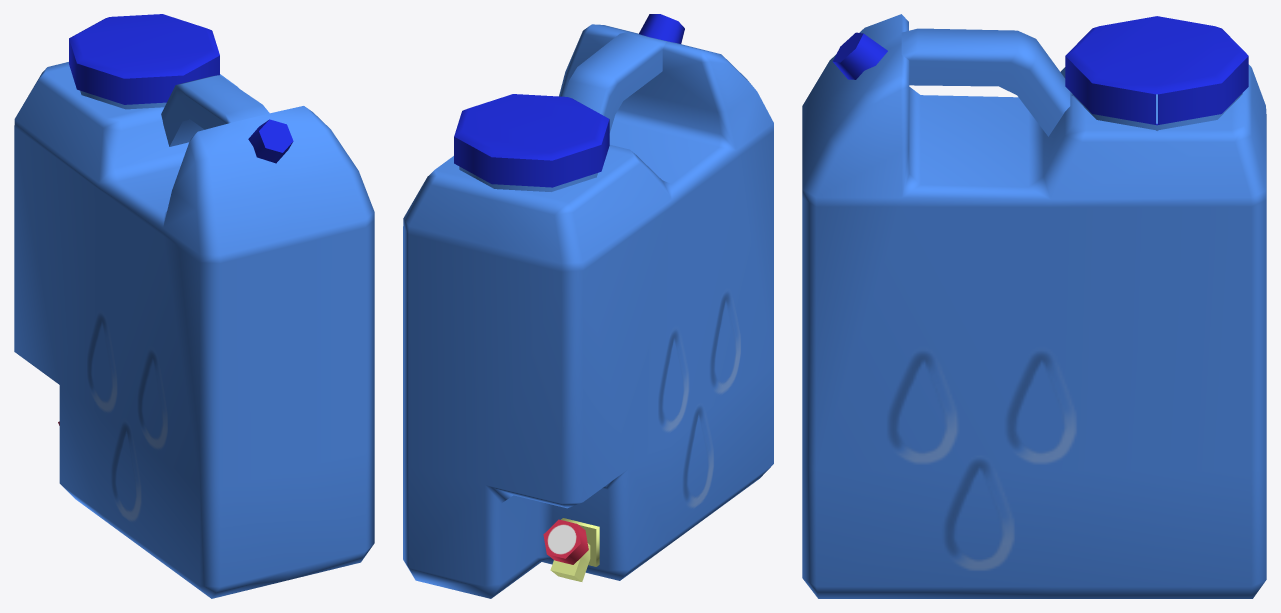
File: Big_WaterJug.fbx
The picture shows the model from 3 angles, left to right: view 1: azimuth 30°, elevation 25°; view 2: azimuth 150°, elevation 25°; view 3: azimuth 270°, elevation 25°; orthographic projection. The views are drawn at different scales.
Parts seen in each view (by area): view 1: Cube.004; view 2: Cube.004; view 3: Cube.004.
Part boxes in pixels (x1,y1,x2,y2): Cube.004: [14, 14, 374, 598]; Cube.004: [403, 14, 773, 598]; Cube.004: [802, 14, 1266, 598].
Size of the model in its own units: 32.17 by 77.77 by 62.41.
